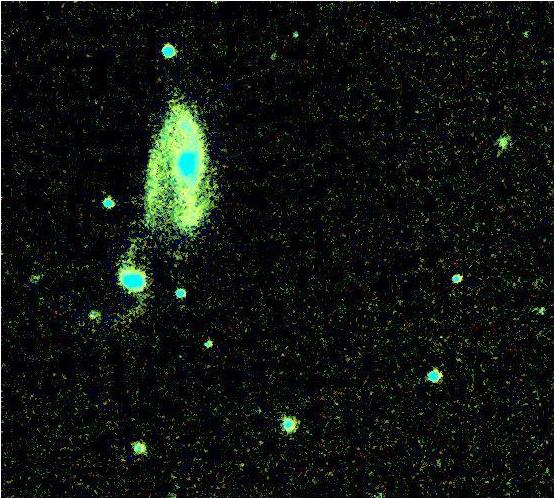star: (163, 242, 193, 272)
